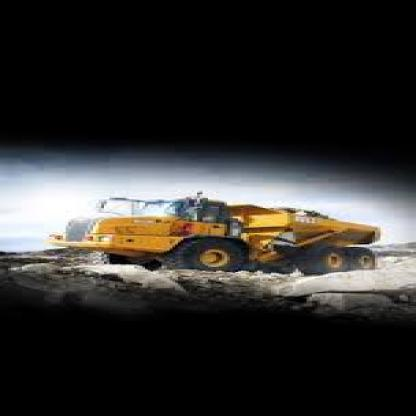dump_truck: (57, 183, 408, 294)
